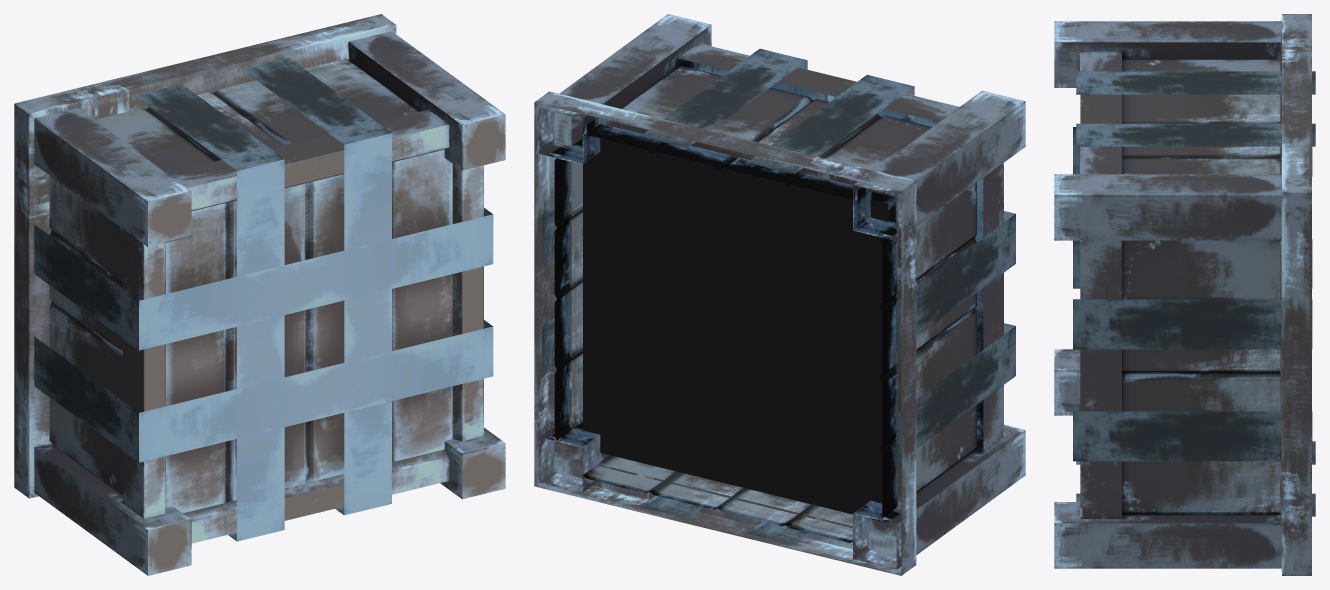
Rendered from trap_020_roadblock.glb.
3 renders of one model, left to right at view 1: azimuth 30°, elevation 25°; view 2: azimuth 150°, elevation 25°; view 3: azimuth 270°, elevation 25°, orthographic.
Visible parts, largest first — view 1: S_icewild_wood; view 2: S_icewild_wood; view 3: S_icewild_wood.
Part boxes in pixels (x1,y1,x2,y2): S_icewild_wood: (14, 14, 505, 575); S_icewild_wood: (534, 14, 1025, 575); S_icewild_wood: (1054, 14, 1315, 575).
Size of the model in its own units: 0.7027 by 0.7027 by 0.434.
Materials: 1 (1 with a texture image).
